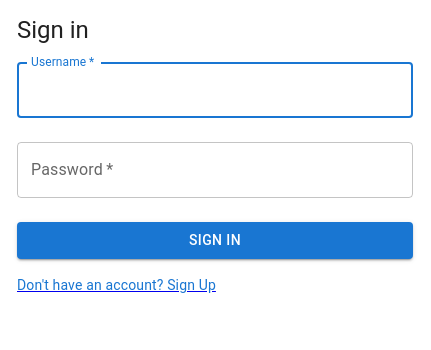
Test: LoginForm › not login user with invalid credentials
Check: the heading "Sign in" is shown, box left=17, top=16, right=89, bottom=44
Type "test" into the field labelled "Username *" at x=215, y=90, box left=17, top=62, right=413, bottom=118
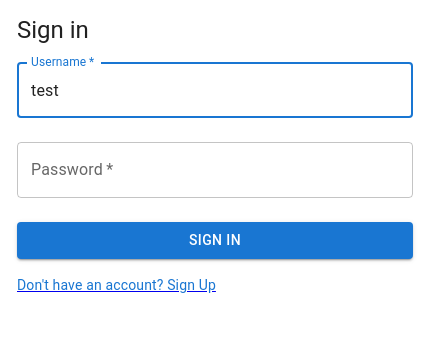
Type "wrongpassword" into the password field labelled "Password *" at x=215, y=170, box left=17, top=142, right=413, bottom=198
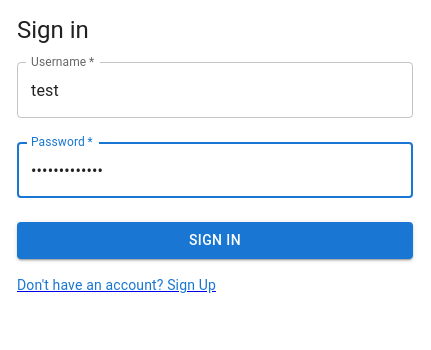
Click the button "Sign In" at x=215, y=240, box left=17, top=222, right=413, bottom=258
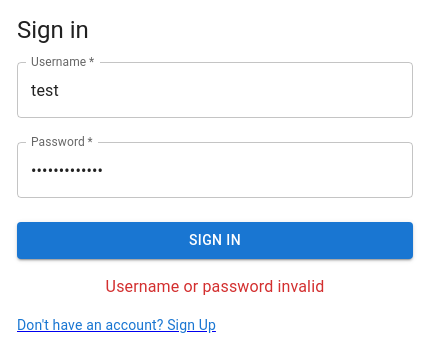
Check: the message reads "Username or password invalid", box left=106, top=276, right=324, bottom=296
